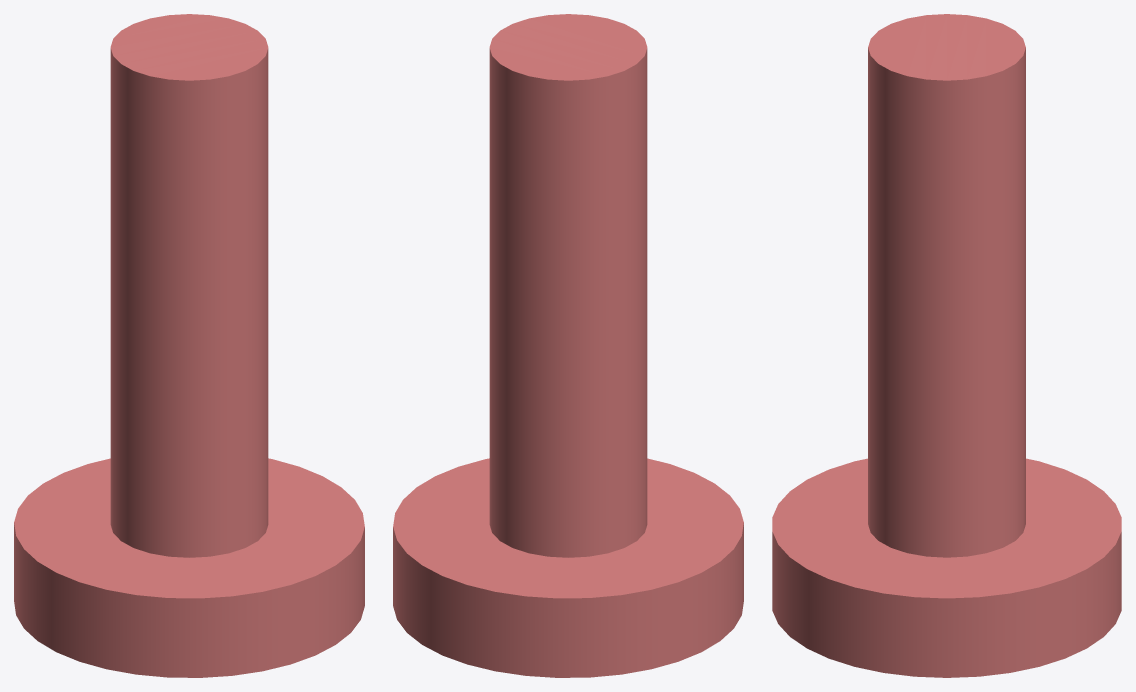
Rendered from sensor_base.dae.
3 views of the same model, side by side, from view 1: azimuth 30°, elevation 25°; view 2: azimuth 150°, elevation 25°; view 3: azimuth 270°, elevation 25° (orthographic).
Parts seen in each view (by area): view 1: base_for_sensor v2; view 2: base_for_sensor v2; view 3: base_for_sensor v2.
Part boxes in pixels (<box>): base_for_sensor v2: <box>14,14,364,677</box>; base_for_sensor v2: <box>393,14,743,677</box>; base_for_sensor v2: <box>772,14,1121,677</box>.
Bounding box in the file's own units: 0.2 × 0.1991 × 0.35.
